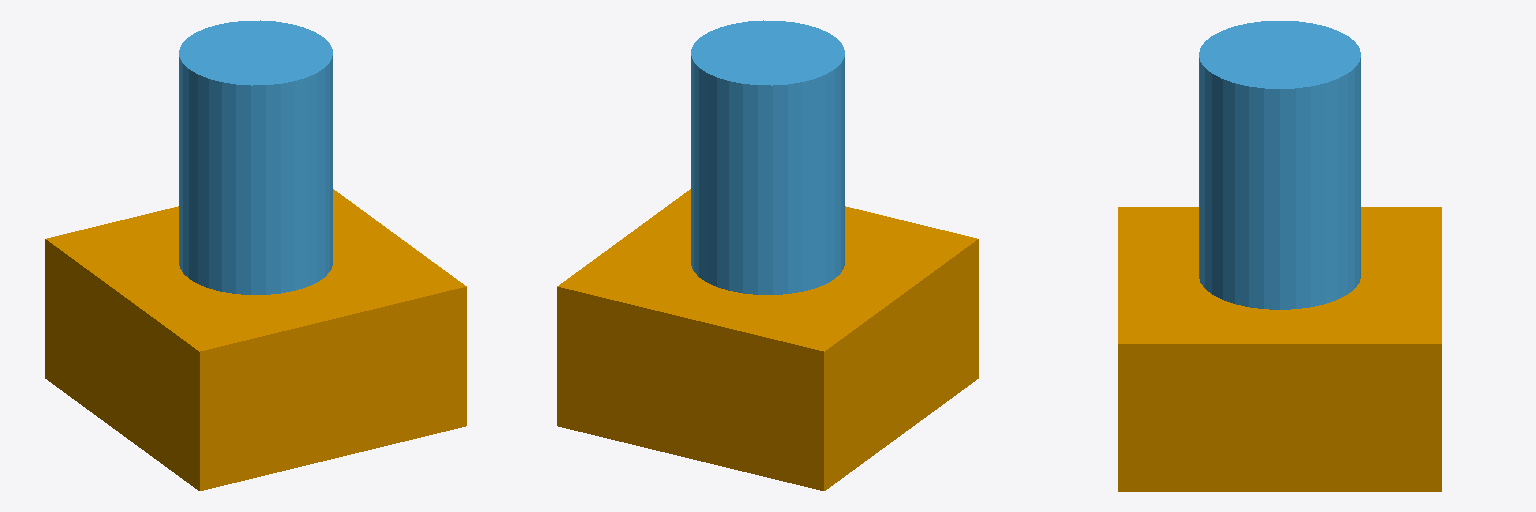
robot.urdf — my_robot:
<?xml version="1.0" ?>
<robot name="my_robot">

  <!-- Define the first link -->
  <link name="base_link">
    <visual>
      <geometry>
        <box size="0.2 0.2 0.1"/>
      </geometry>
    </visual>
  </link>

  <!-- Define the second link attached to the first link -->
  <link name="link2">
    <visual>
      <geometry>
        <cylinder length="0.2" radius="0.05"/>
      </geometry>
    </visual>
  </link>

  <!-- Define a revolute joint between the two links -->
  <joint name="joint1" type="revolute">
    <parent link="base_link"/>
    <child link="link2"/>
    <origin xyz="0 0 0.1" rpy="0 0 0"/>
    <axis xyz="0 0 1"/>
    <limit lower="-3.14159" upper="3.14159" effort="100" velocity="1.0"/>
    <dynamics damping="0.5"/>
  </joint>

</robot>

--- Facts derived from the render (not from the file) ---
The picture shows the robot from 3 angles, left to right: view 1: azimuth 30°, elevation 25°; view 2: azimuth 150°, elevation 25°; view 3: azimuth 270°, elevation 25°; orthographic projection.
Model my_robot with 2 links and 1 joints (1 revolute), rooted at base_link, posed every joint at zero.
Visible links, largest first — view 1: base_link, link2; view 2: base_link, link2; view 3: base_link, link2.
Boxes of the visible links, box(x1,y1,x2,y2) form: base_link: box(45, 189, 466, 490); link2: box(179, 20, 332, 294); base_link: box(557, 189, 978, 490); link2: box(691, 20, 844, 294); base_link: box(1118, 207, 1441, 491); link2: box(1199, 21, 1360, 309).
Size in the robot's own frame: 0.2 by 0.2 by 0.25 metres.
Geometry: primitives only (box / cylinder / sphere), no mesh files.